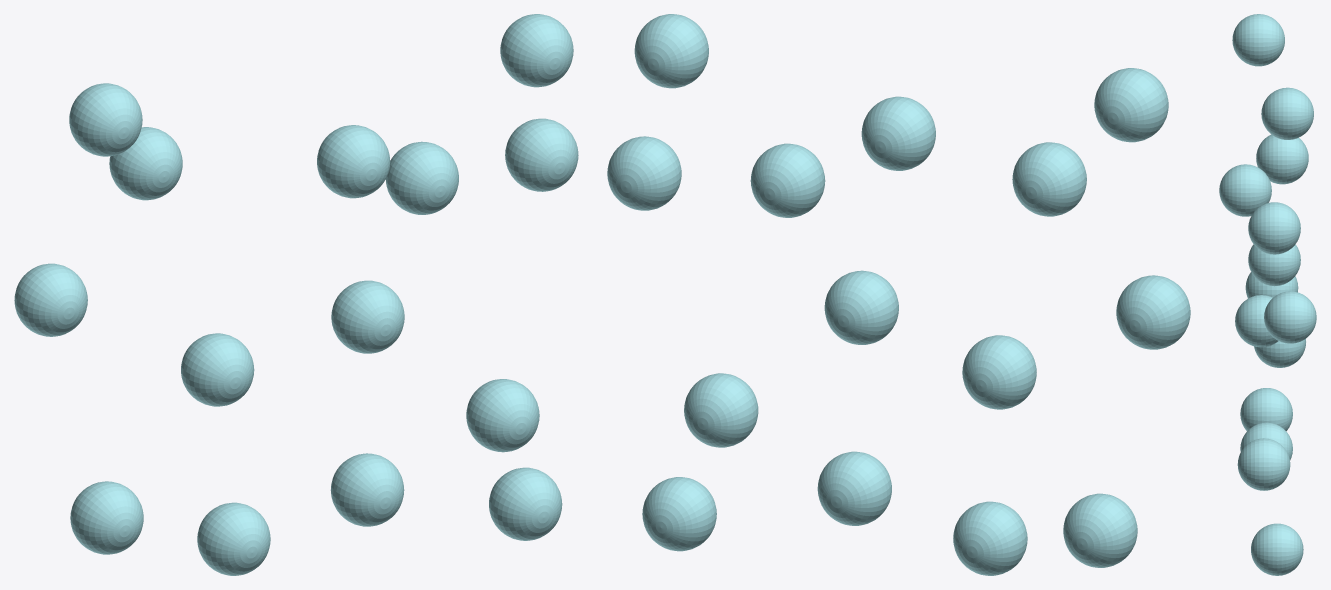
File: tinker.obj
3 renders of one model, left to right at view 1: azimuth 30°, elevation 25°; view 2: azimuth 150°, elevation 25°; view 3: azimuth 270°, elevation 25°, orthographic. The views are drawn at different scales.
Parts seen in each view (by area): view 1: obj_0; view 2: obj_0; view 3: obj_0.
Boxes of the visible parts, left/top/right/bottom form: obj_0: left=14, top=14, right=578, bottom=575; obj_0: left=607, top=14, right=1190, bottom=575; obj_0: left=1219, top=14, right=1316, bottom=575.
Bounding box in the file's own units: 176 × 170 × 37.
